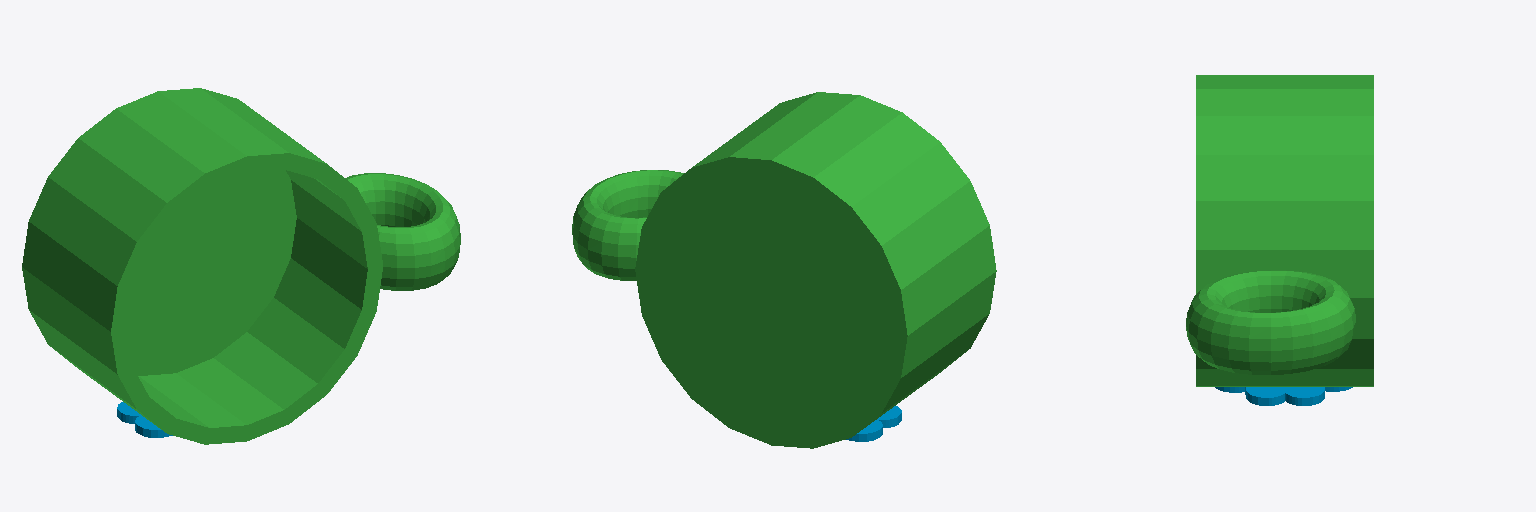
File: tinker.obj
3 views of the same model, side by side, from view 1: azimuth 30°, elevation 25°; view 2: azimuth 150°, elevation 25°; view 3: azimuth 270°, elevation 25° (orthographic).
Visible parts, largest first — view 1: obj_0; view 2: obj_0; view 3: obj_0.
Boxes of the visible parts, <box> form: obj_0: <box>22,88,460,444</box>; obj_0: <box>572,92,996,448</box>; obj_0: <box>1186,75,1373,405</box>.
Size of the model in its own units: 48 by 35 by 21.